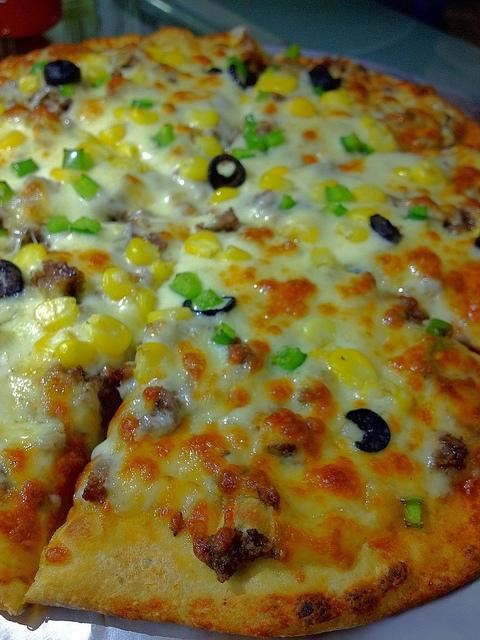bell pepper: (270, 346, 308, 372), (170, 272, 202, 298), (400, 497, 424, 529), (342, 133, 374, 155), (224, 57, 248, 86), (63, 149, 94, 171), (71, 175, 99, 199), (70, 216, 104, 235), (152, 123, 176, 147), (424, 318, 452, 338), (194, 290, 222, 310), (244, 130, 269, 152), (12, 158, 38, 177), (326, 185, 352, 202), (212, 324, 234, 344), (48, 216, 72, 234), (339, 158, 365, 174), (243, 114, 260, 136), (90, 74, 112, 90), (404, 207, 428, 221), (0, 181, 15, 203), (232, 148, 256, 161), (30, 62, 48, 78), (280, 194, 296, 210), (58, 85, 76, 98), (286, 44, 300, 60), (331, 204, 348, 216), (254, 90, 269, 102), (132, 100, 152, 108), (314, 86, 326, 97), (264, 66, 280, 74)
